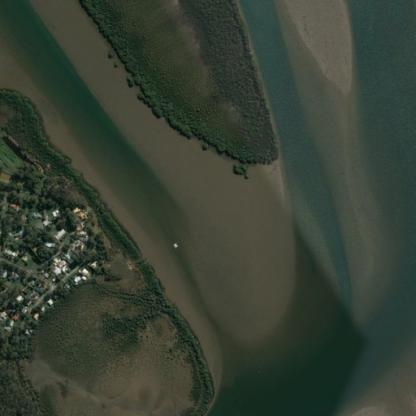ship: (168, 239, 180, 250)
